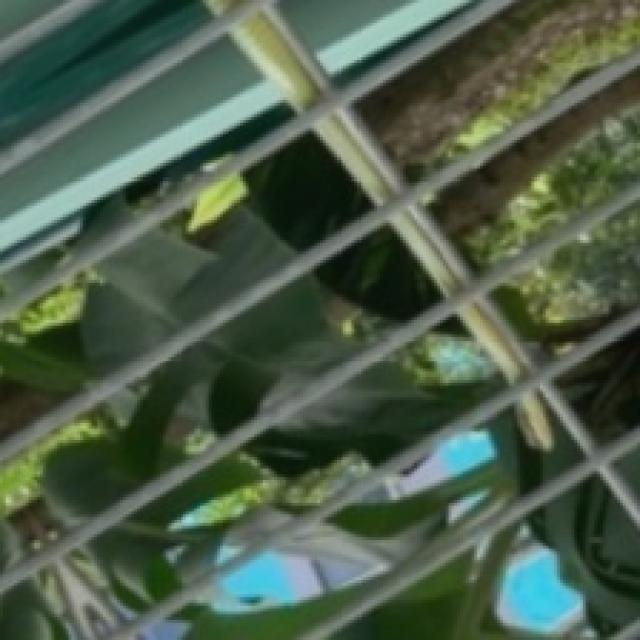paradise tree snake: (232, 5, 331, 111), (315, 105, 406, 206), (390, 204, 472, 296), (460, 298, 532, 382), (520, 392, 554, 450)
